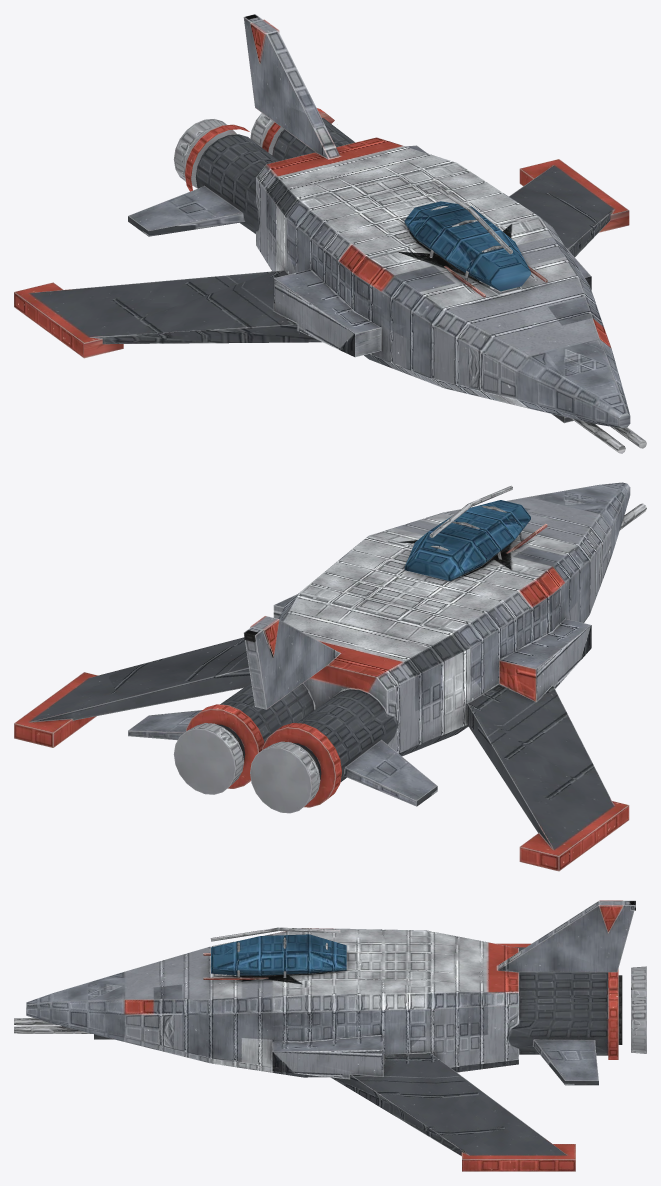
Rendered from sd_ship_sahin_m.glb.
3 renders of one model, top to bottom at view 1: azimuth 30°, elevation 25°; view 2: azimuth 150°, elevation 25°; view 3: azimuth 270°, elevation 25°, orthographic. The views are drawn at different scales.
Visible parts, largest first — view 1: LOD0_body, LOD1_body; view 2: LOD0_body, LOD1_body; view 3: LOD0_body, LOD1_body.
Part boxes in pixels (x1,y1,x2,y2): LOD0_body: (14, 14, 646, 453); LOD1_body: (14, 15, 618, 431); LOD0_body: (14, 482, 646, 871); LOD1_body: (24, 484, 622, 855); LOD0_body: (14, 900, 646, 1171); LOD1_body: (86, 902, 635, 1156).
Size of the model in its own units: 0.8074 by 0.2802 by 1.
Materials: 1 (1 with a texture image).
